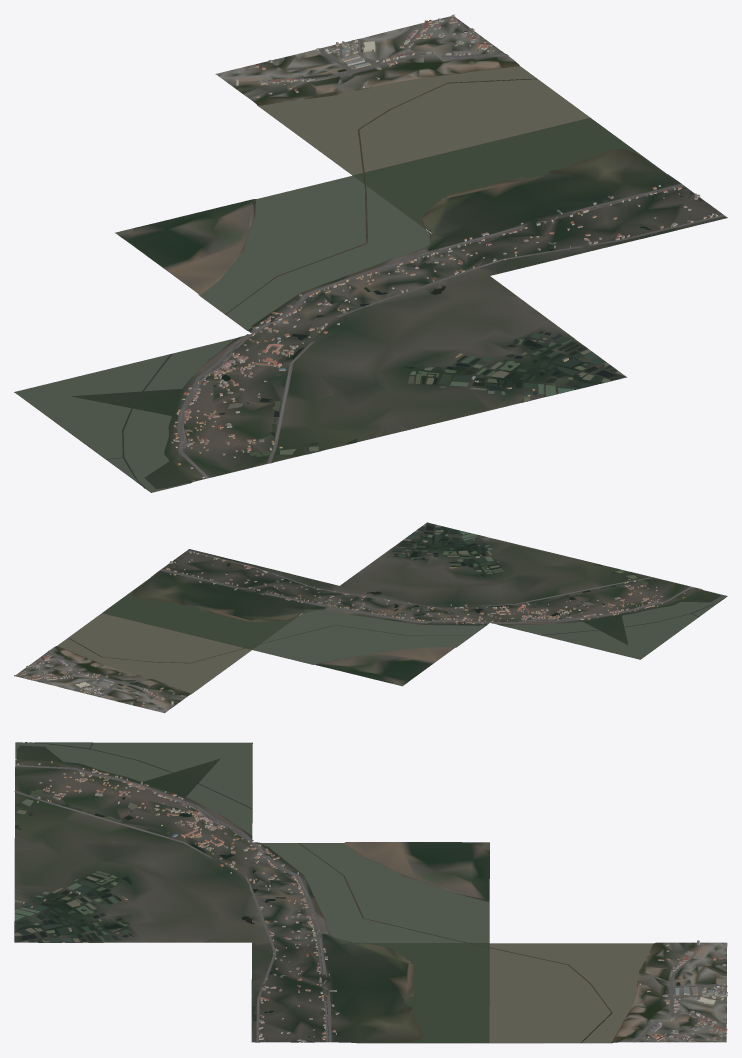
3 renders of one model, top to bottom at view 1: azimuth 30°, elevation 25°; view 2: azimuth 150°, elevation 25°; view 3: azimuth 270°, elevation 25°, orthographic. The views are drawn at different scales.
Visible parts, largest first — view 1: ground, water, buildings, roads; view 2: ground, water, buildings, roads; view 3: ground, water, buildings, roads.
Part boxes in pixels (x1,y1,x2,y2): ground: (14, 16, 727, 492); water: (14, 66, 702, 492); buildings: (171, 14, 717, 481); roads: (177, 16, 724, 478); ground: (14, 522, 727, 713); water: (57, 523, 727, 693); buildings: (14, 538, 700, 706); roads: (16, 550, 691, 707); ground: (14, 742, 727, 1043); water: (14, 742, 680, 1043); buildings: (15, 758, 727, 1042); roads: (14, 765, 727, 1042).
Bounding box in the file's own units: 4210 × 34.46 × 4213.
